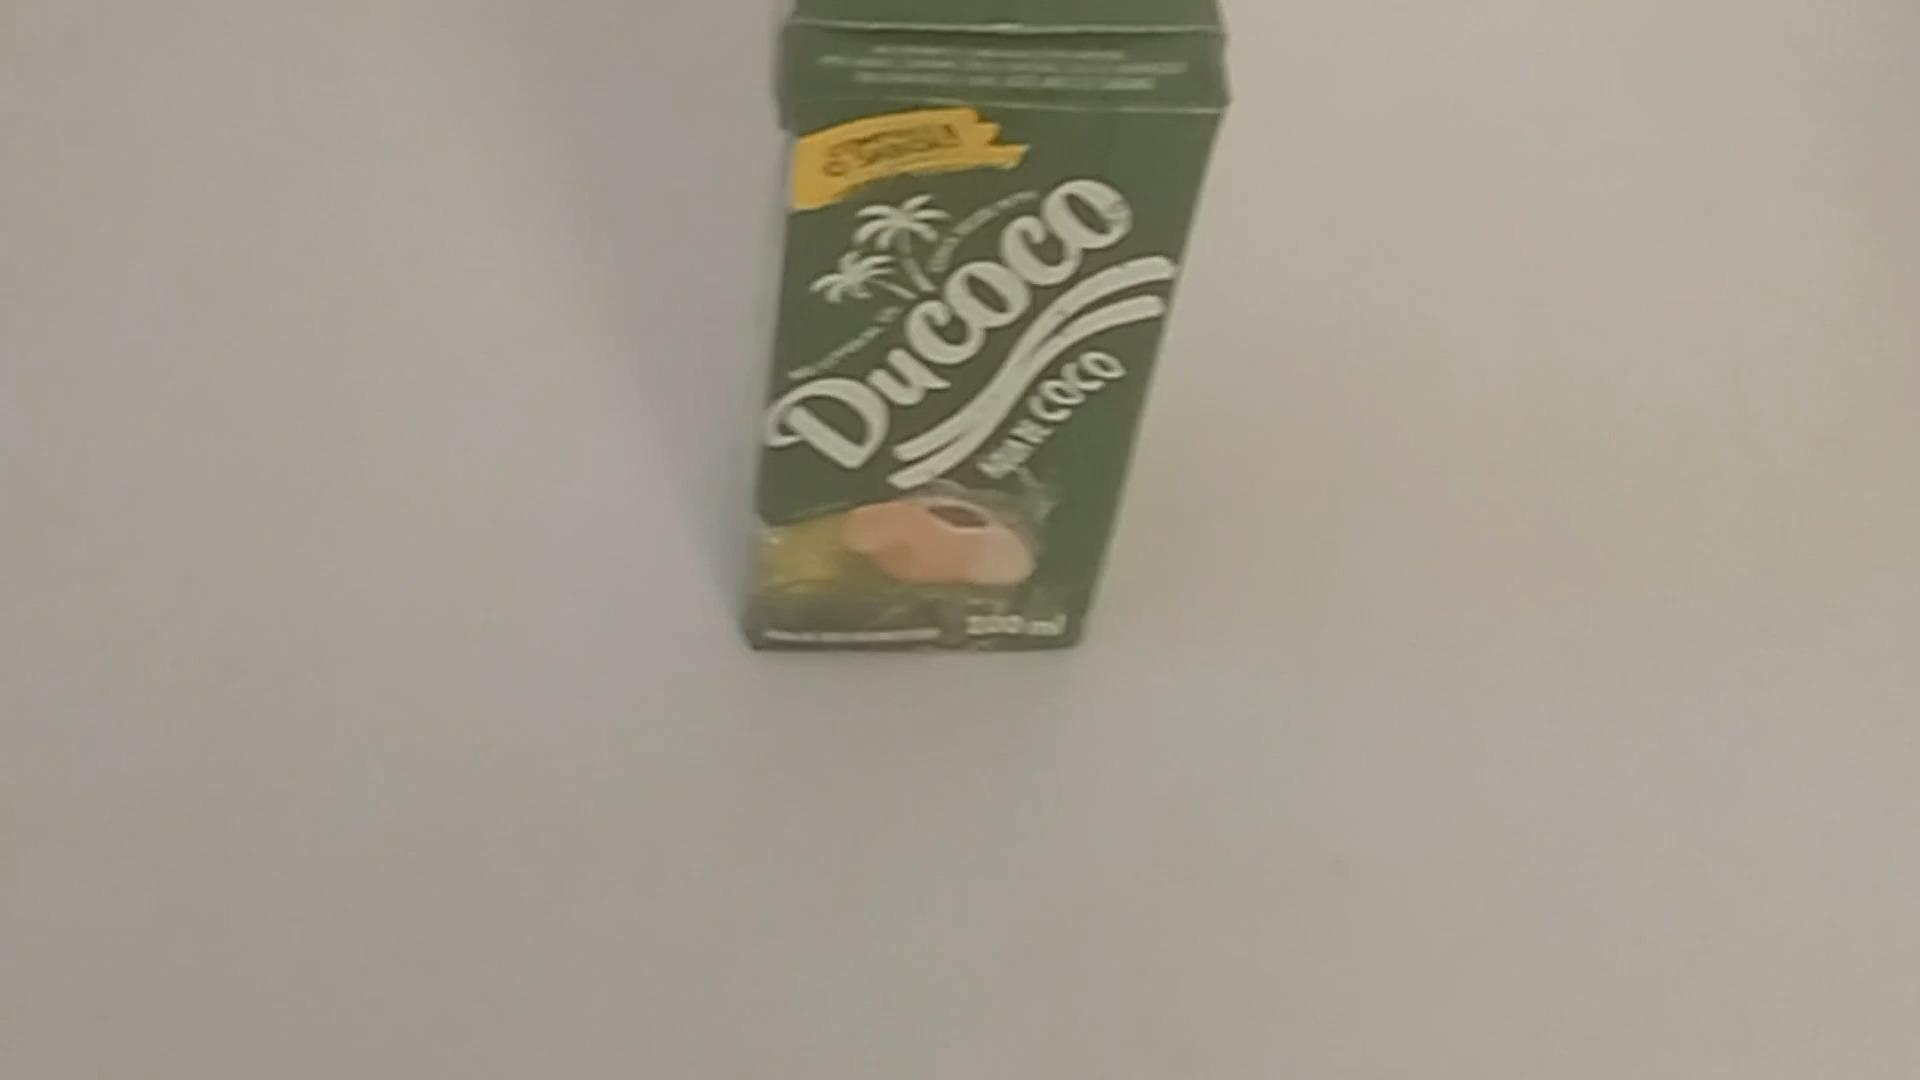coco: (744, 3, 1229, 658)
